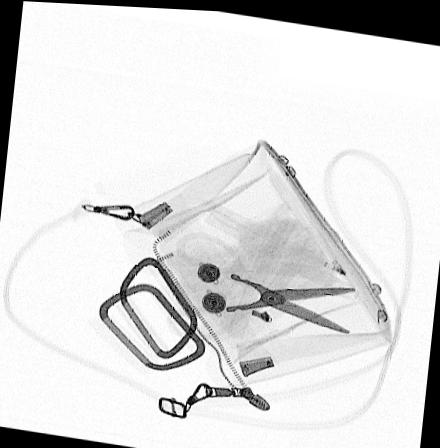Scissors: (165, 227, 356, 339)
